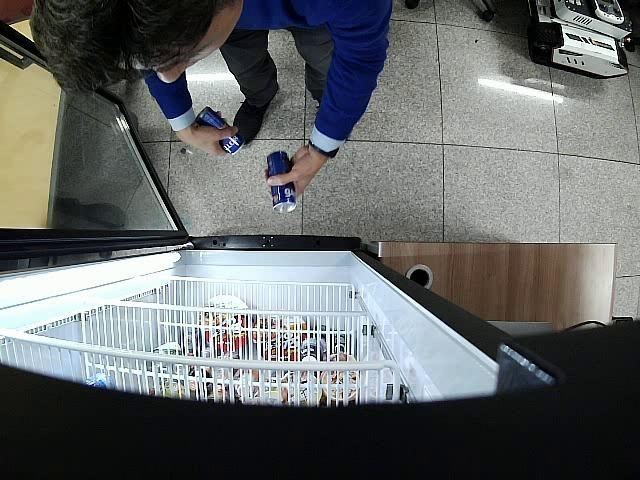16_hot6: (195, 106, 245, 155), (268, 151, 296, 213)
